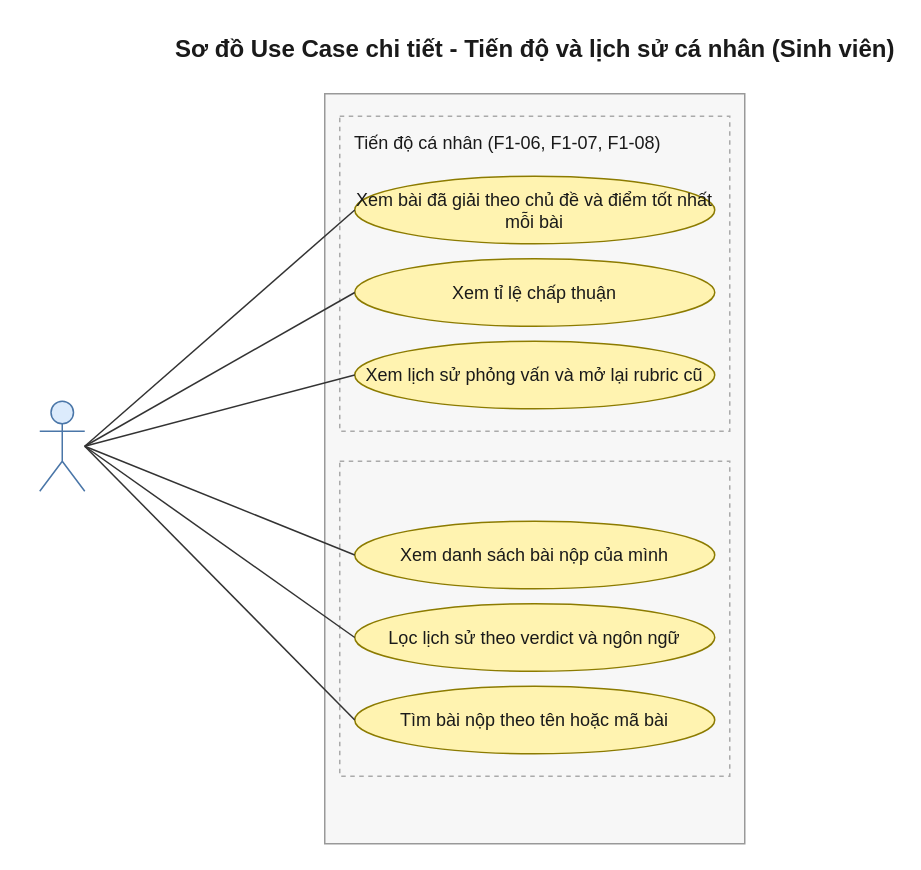
Image size: 921x870. Some labels were removed from this diagram. Here are the shapes that lost their labels. From the top down, the box of each, then its label:
(38, 400, 85, 491): Sinh viên
(323, 92, 745, 844): Chức năng Tiến độ và lịch sử cá nhân
(338, 460, 730, 776): Lịch sử nộp bài (F1-18)
